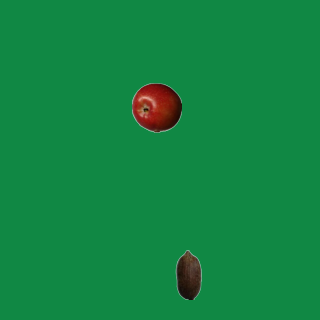Apple Braeburn: (131, 82, 181, 132)
Nut Pecan: (163, 249, 213, 299)
